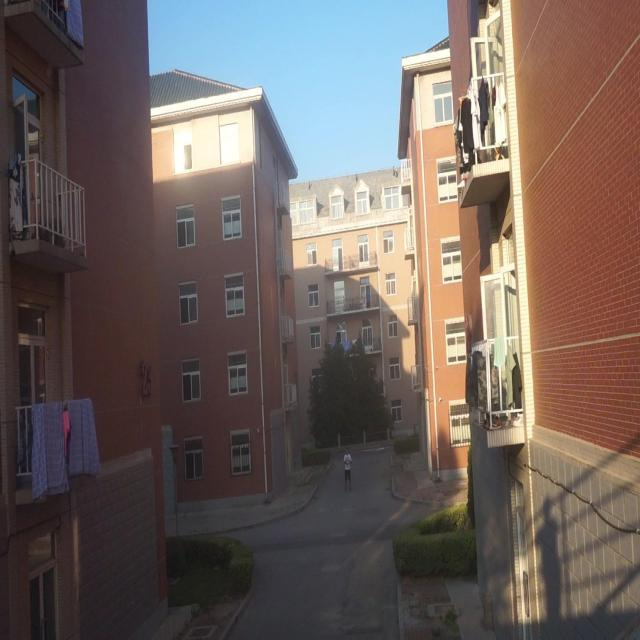UAV: (274, 257, 282, 264)
